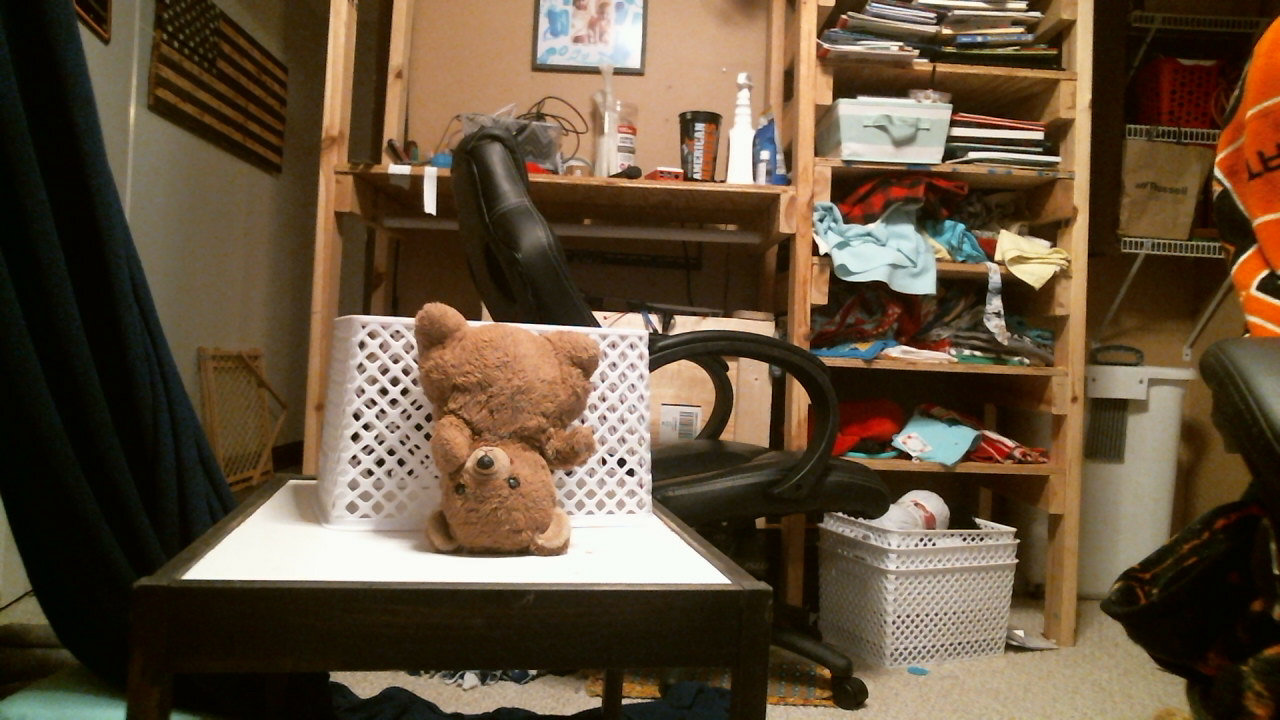Little_Mister_Bear: (460, 455, 522, 526)
